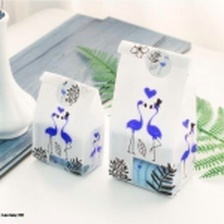snack: (102, 33, 203, 203), (24, 65, 109, 182)
